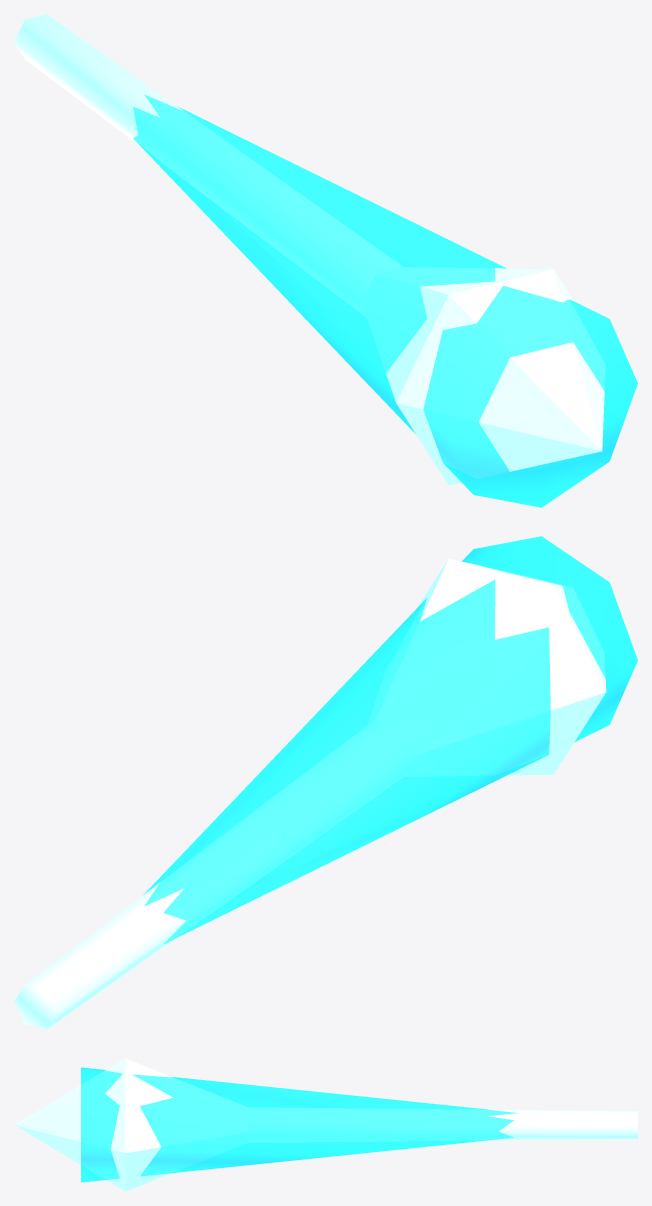
The model's file is fx_bolt_f.glb.
The picture shows the model from 3 angles, top to bottom: view 1: azimuth 30°, elevation 25°; view 2: azimuth 150°, elevation 25°; view 3: azimuth 270°, elevation 25°; orthographic projection. The views are drawn at different scales.
Visible parts, largest first — view 1: fx_bolt_f; view 2: fx_bolt_f; view 3: fx_bolt_f.
Part boxes in pixels (x1=…): fx_bolt_f: x1=14, y1=14, x2=637, y2=507; fx_bolt_f: x1=14, y1=536, x2=637, y2=1029; fx_bolt_f: x1=14, y1=1058, x2=637, y2=1191.
Size of the model in its own units: 0.24 by 0.22 by 1.12.
